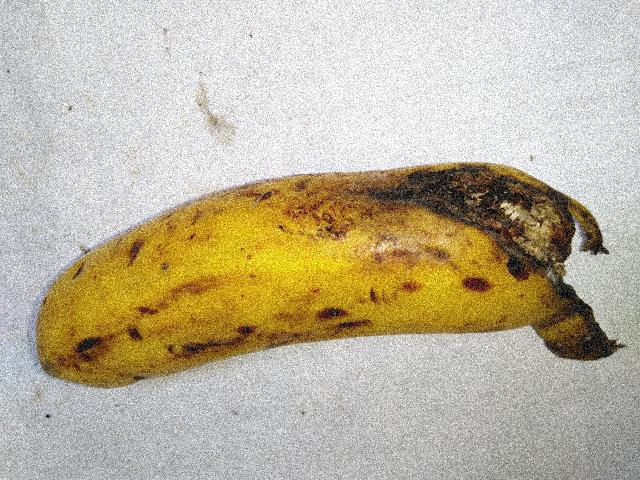ripe: (26, 176, 396, 392)
rotten: (294, 145, 604, 336)
